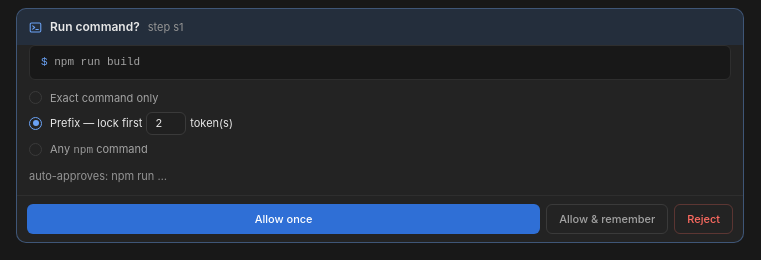
Test: LiveSlot — remount on payload change › does NOT remount when the same payload object is re-rendered
Click the button "Allow once": (284, 219) [27,204,540,234]
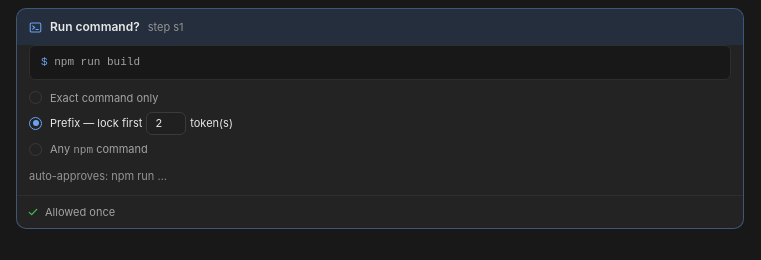
Result: the button "Allow once" is gone
